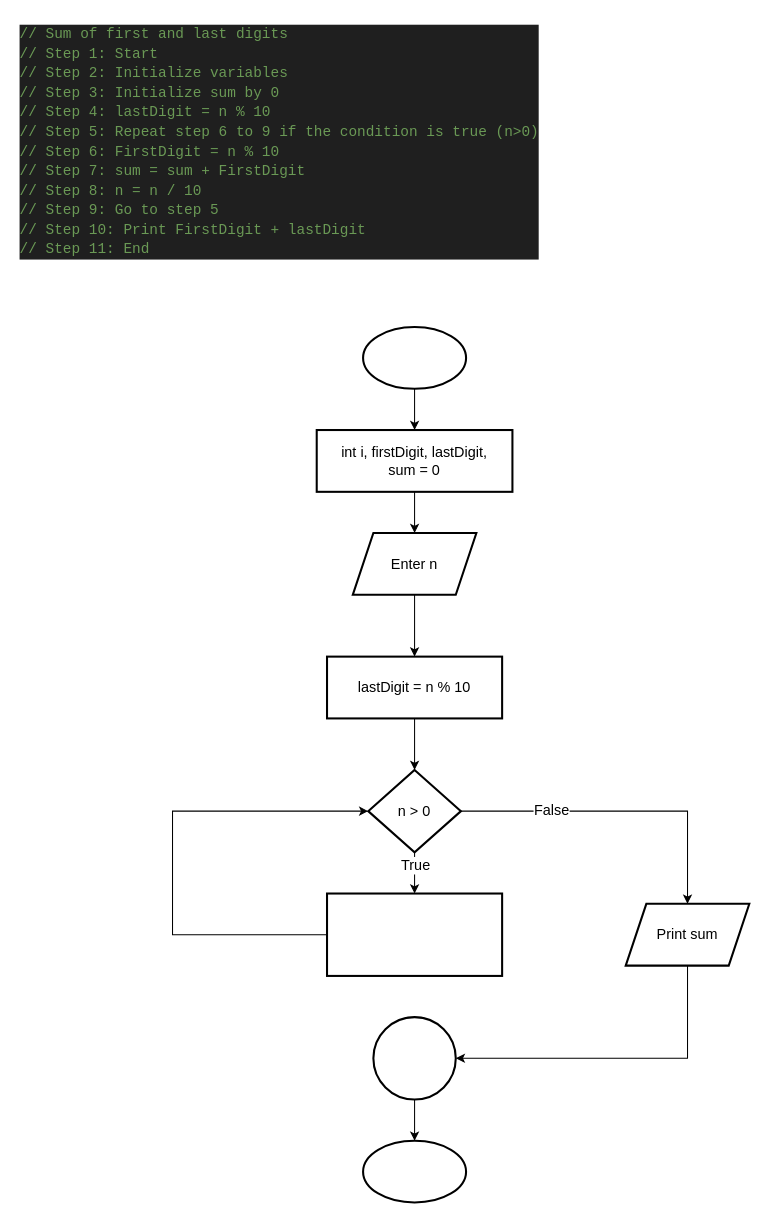
This 767x1221 diagram has some shape labels left out. The shapes that lost their labels are listed below. From the top down, each one's centre as x and y in pixels, then its label:
At point (414, 357): "Start".
At point (414, 934): "firstDigit = n % 10 sum = sum + firstDigit n = n / 10".
At point (414, 1171): "End".
